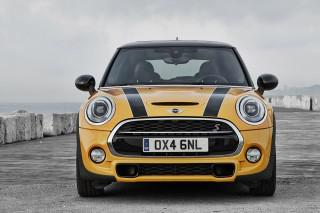mini: (164, 105, 189, 116)
